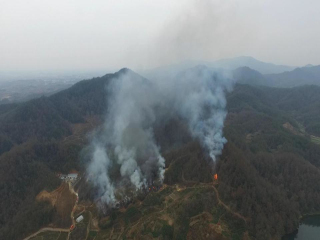smoke: (79, 5, 235, 208)
